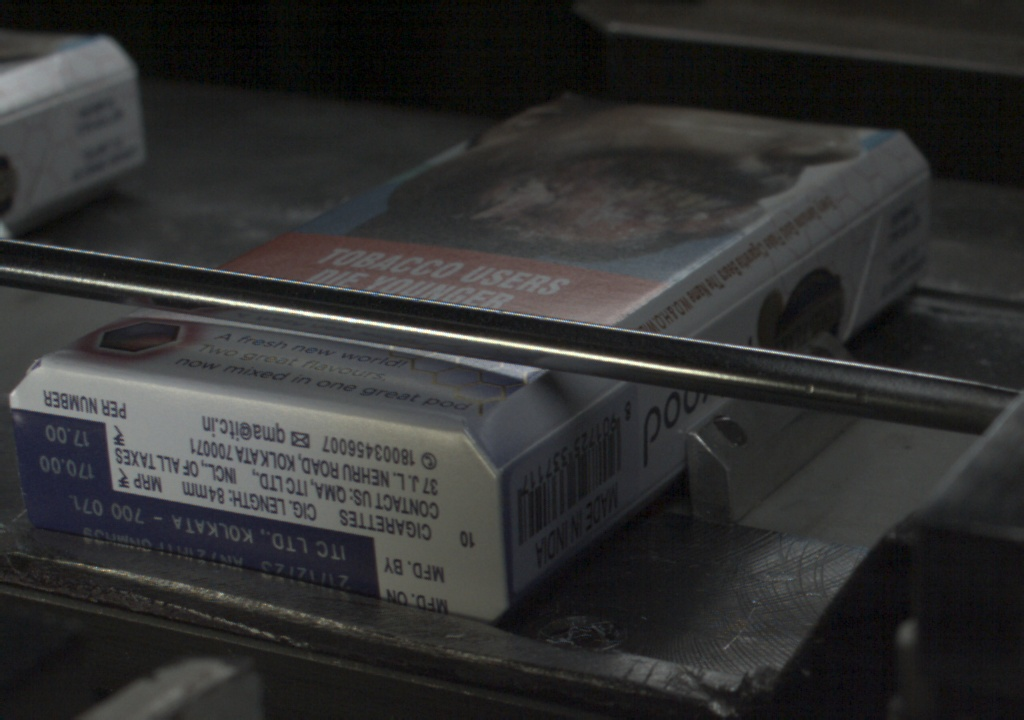g_bottom: (8, 366, 496, 621)
g_label: (23, 485, 380, 595)
g_lmiter: (693, 269, 785, 335), (787, 207, 873, 266), (498, 423, 559, 473), (558, 383, 619, 426)
g_miter: (874, 166, 931, 206)
price: (13, 415, 111, 484)
